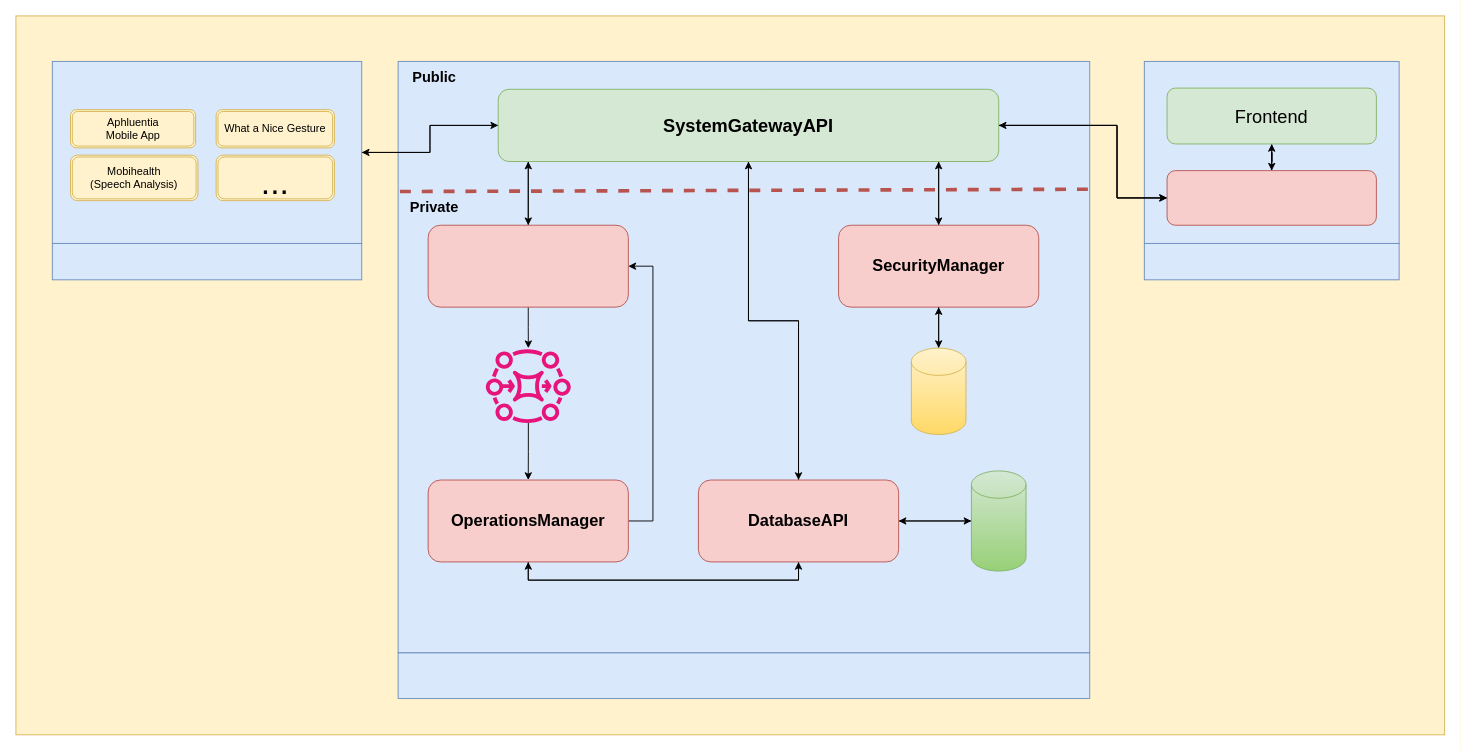
Some shapes in this 1461 by 751 pixel diagram are drawn without their labels. Here are the shapes that lost their labels. From the top down, the centre of each, then its label:
point (1271, 197): Backend
point (206, 261): External Applications
point (527, 265): OperationsAPI
point (1271, 261): Aphluentia++
point (743, 675): AphluentiaFramework
